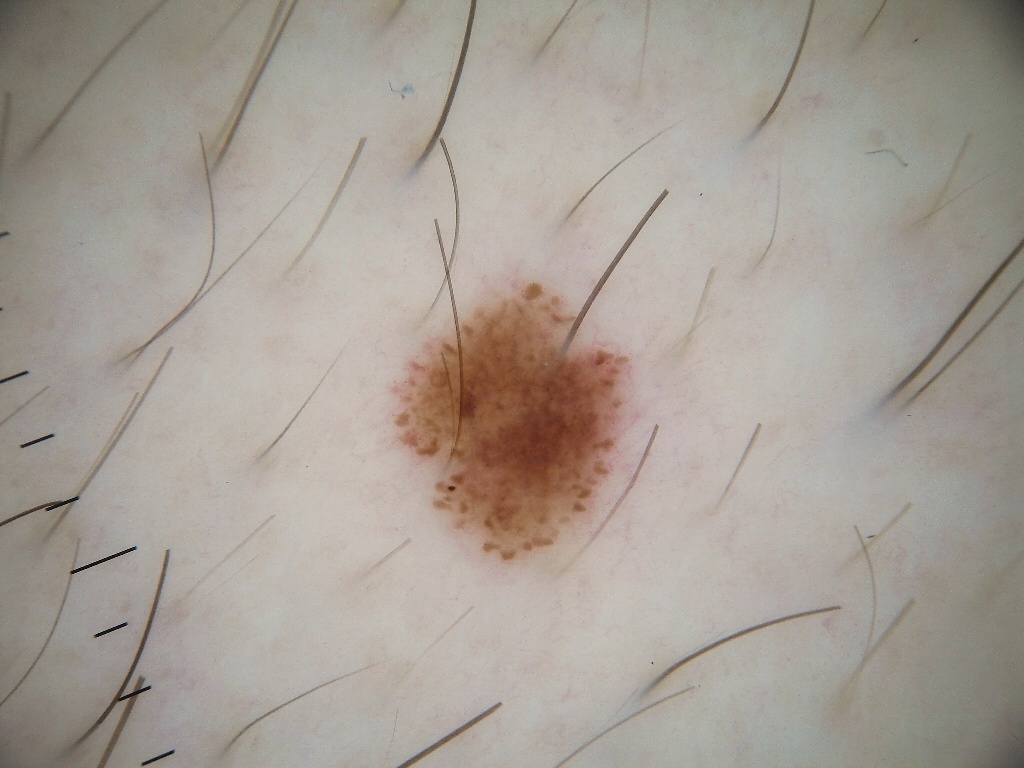Detected Lesion: (382, 281, 643, 567)
